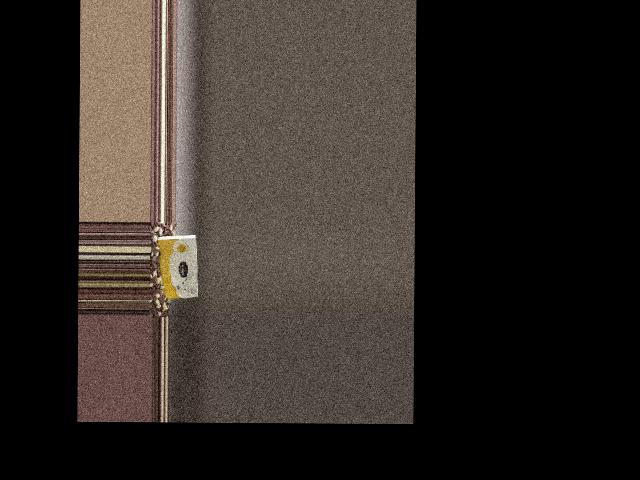chocolate: (155, 231, 200, 302)
